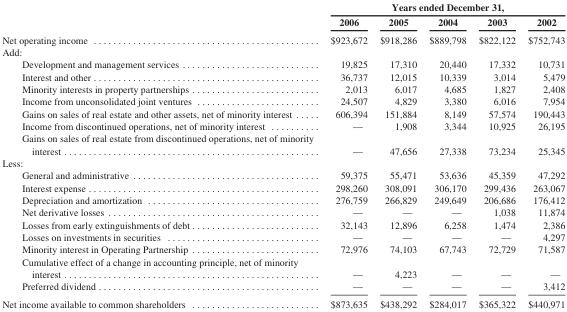table: (1, 1, 564, 308)
table column: (1, 1, 321, 308), (321, 1, 373, 308), (471, 1, 521, 308), (373, 1, 422, 308), (422, 1, 471, 308), (521, 1, 564, 308)
table column header: (1, 1, 564, 30)
table projected row header: (1, 45, 564, 57), (1, 156, 564, 168)
table row: (1, 131, 564, 156), (1, 255, 564, 279), (1, 14, 564, 30), (1, 30, 564, 45), (1, 279, 564, 294), (1, 294, 564, 308), (1, 1, 564, 14), (1, 57, 564, 70), (1, 94, 564, 107), (1, 168, 564, 181), (1, 205, 564, 218), (1, 242, 564, 255), (1, 45, 564, 57), (1, 70, 564, 82), (1, 82, 564, 94), (1, 107, 564, 119), (1, 119, 564, 131), (1, 156, 564, 168), (1, 181, 564, 193), (1, 193, 564, 205), (1, 218, 564, 230), (1, 230, 564, 242)
table spanning cell: (321, 1, 564, 14)
